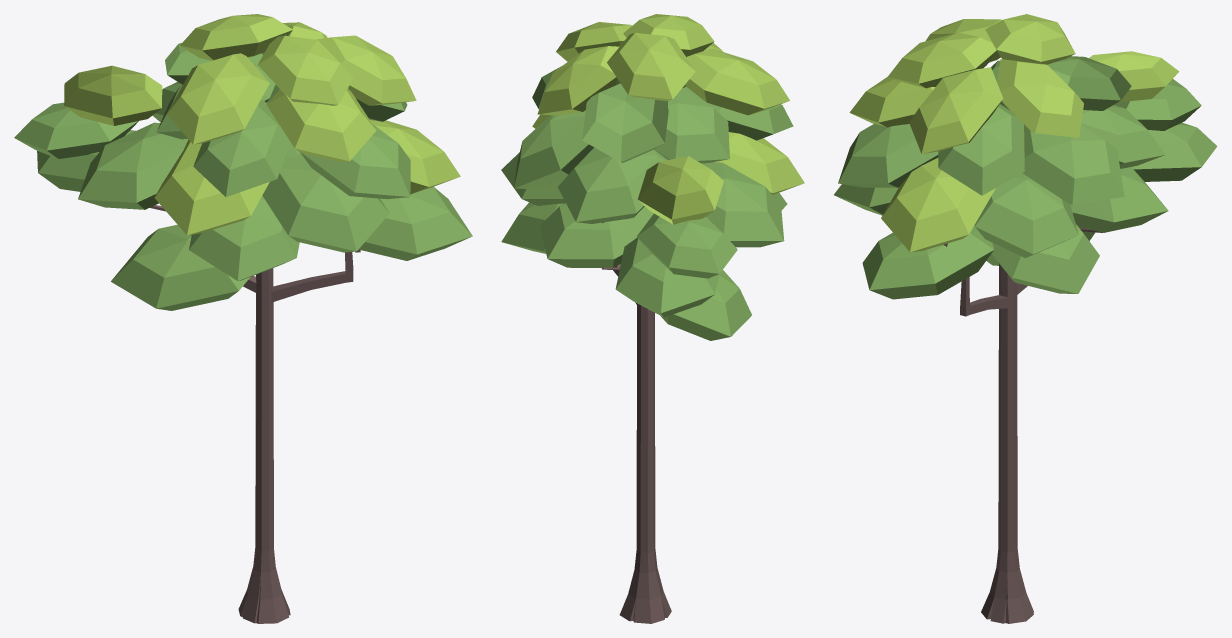
File: Plant.fbx
The picture shows the model from 3 angles, left to right: view 1: azimuth 30°, elevation 25°; view 2: azimuth 150°, elevation 25°; view 3: azimuth 270°, elevation 25°; orthographic projection. The views are drawn at different scales.
Visible parts, largest first — view 1: polySurface8450; view 2: polySurface8450; view 3: polySurface8450.
Part boxes in pixels (<box>): polySurface8450: <box>14,14,472,623</box>; polySurface8450: <box>501,14,804,623</box>; polySurface8450: <box>834,14,1217,623</box>.
Bounding box in the file's own units: 0.02 × 0.0364 × 0.0217.
